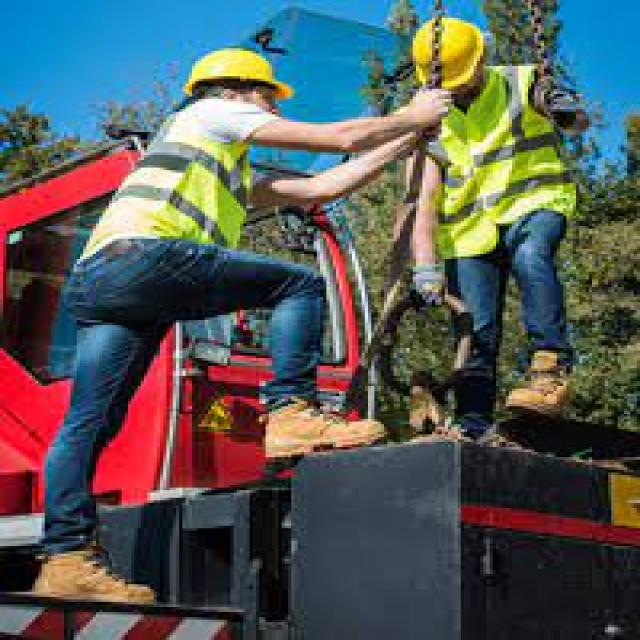shoes: (266, 398, 384, 456), (31, 549, 156, 603), (511, 355, 570, 414)
